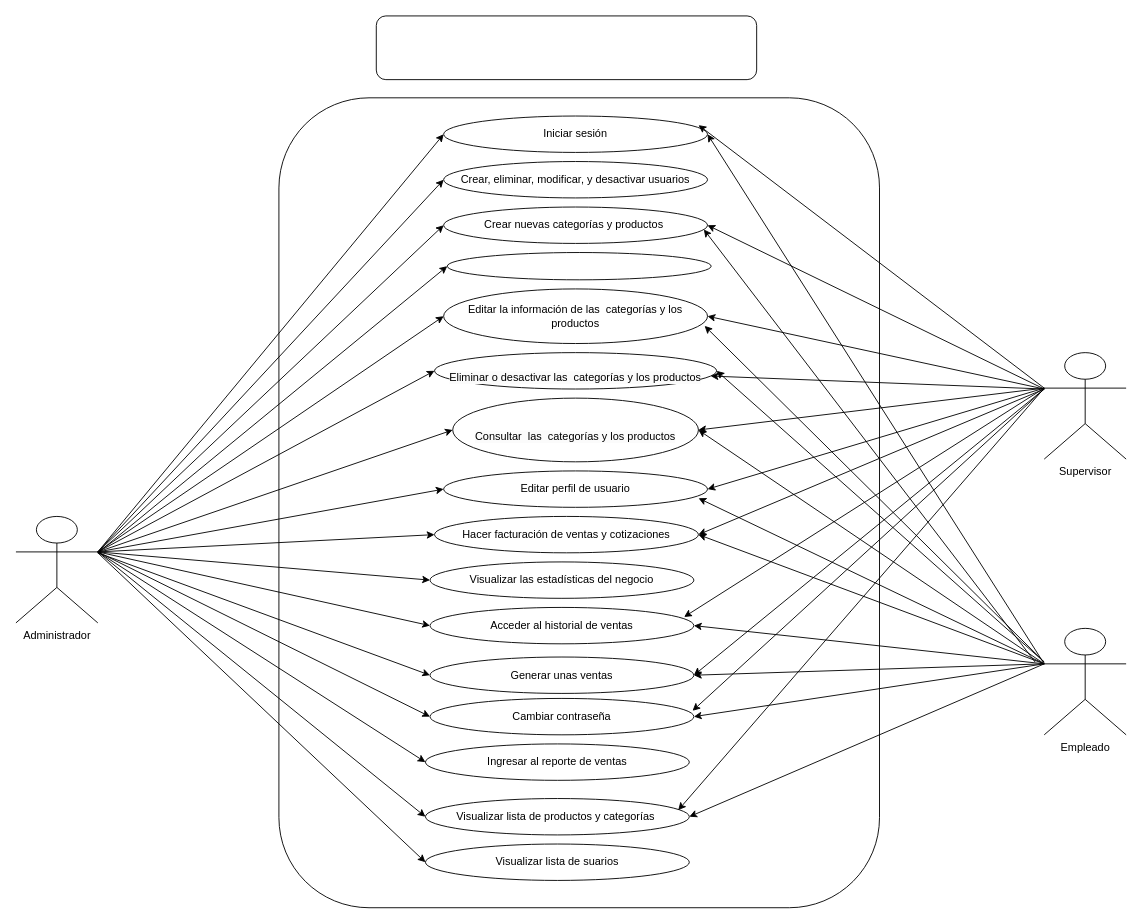
Image size: 1142x924. Some labels were removed from this diagram. Each missing label, with the centre of its shape:
CASOS DE USO: the point at 566,47
Editar la información del negocio: the point at 578,266
